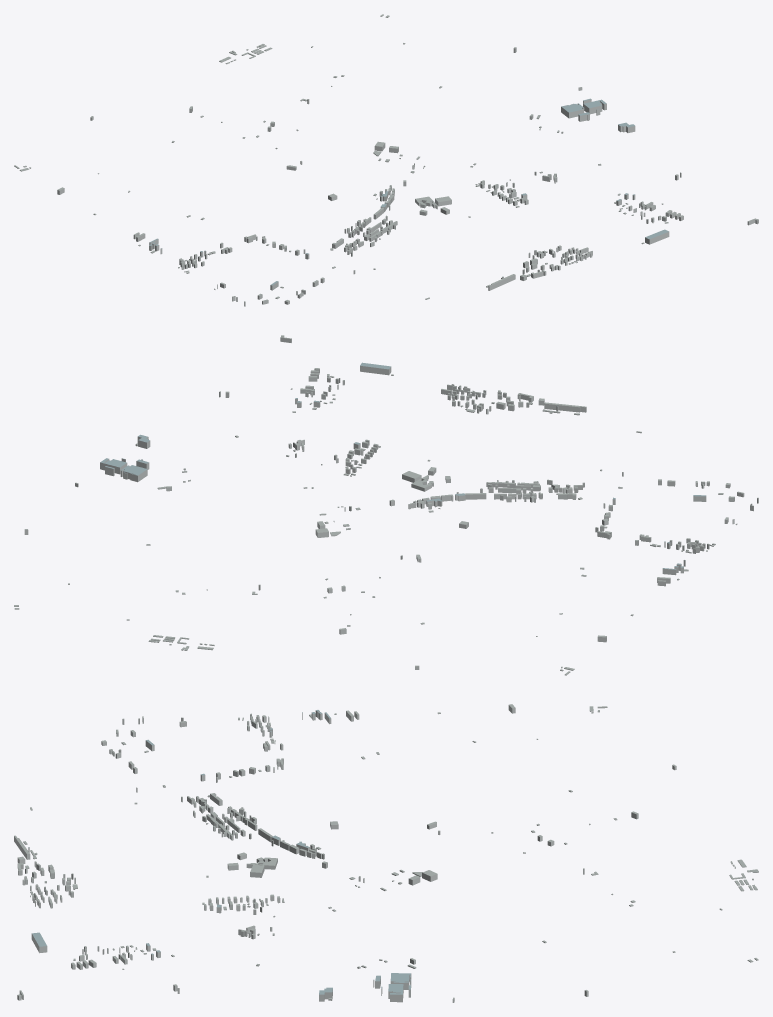
Rendered from far.glb.
The picture shows the model from 3 angles, top to bottom: view 1: azimuth 30°, elevation 25°; view 2: azimuth 150°, elevation 25°; view 3: azimuth 270°, elevation 25°; orthographic projection. The views are drawn at different scales.
Bounding box in the file's own units: 1987 × 24.9 × 2115.
